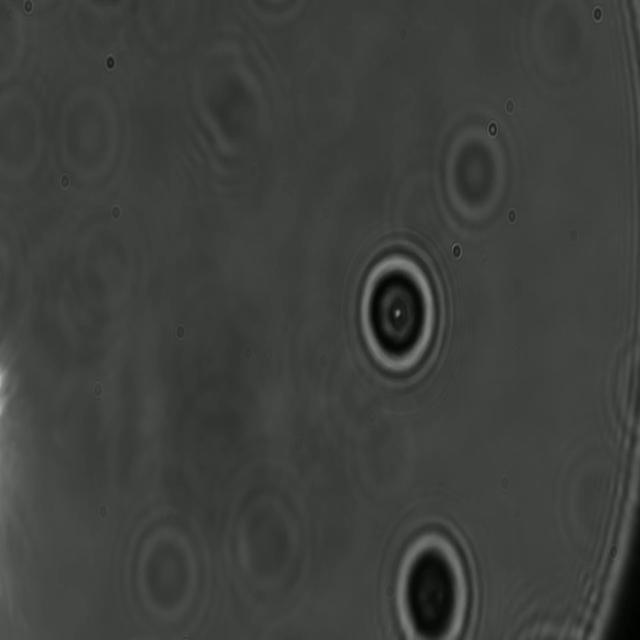LCELL: (350, 240, 449, 389)
